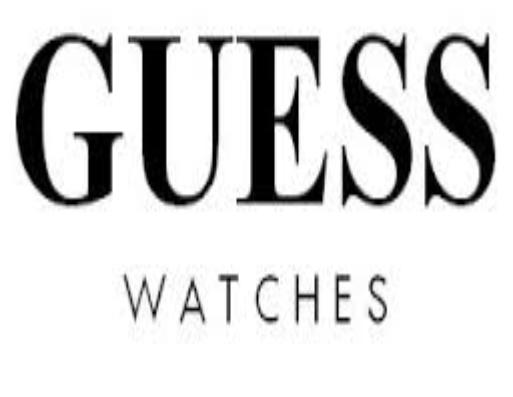GUESS: (8, 29, 496, 211)
